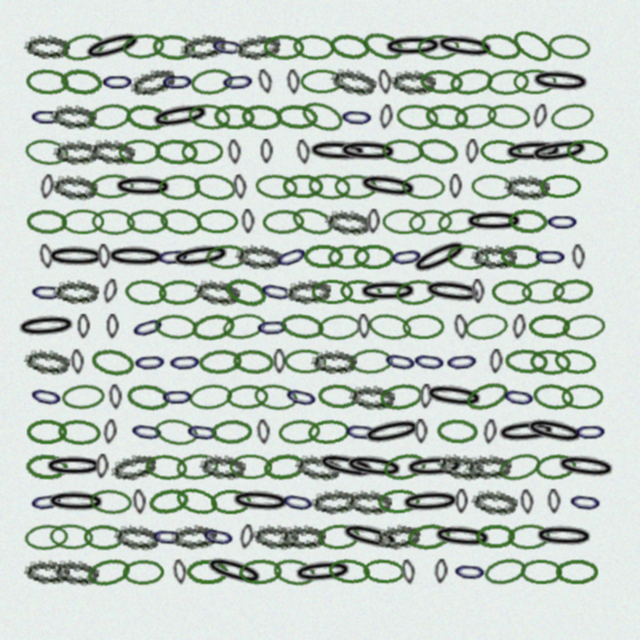chain: (407, 233, 473, 281), (80, 26, 146, 67), (201, 551, 267, 592), (337, 518, 403, 556), (522, 413, 587, 450), (314, 448, 379, 485), (360, 414, 425, 450), (148, 99, 213, 134), (527, 135, 592, 168), (356, 170, 420, 203), (169, 240, 233, 273), (422, 380, 486, 413), (508, 25, 557, 68), (433, 31, 497, 63), (421, 276, 485, 308), (342, 451, 406, 483), (554, 451, 618, 483), (127, 63, 178, 101), (291, 557, 355, 587), (298, 97, 347, 136), (495, 417, 558, 447), (431, 522, 494, 552), (108, 449, 159, 485), (529, 67, 592, 96), (15, 312, 78, 341), (229, 487, 292, 516), (463, 378, 511, 415), (403, 453, 466, 481), (399, 488, 462, 516), (360, 28, 407, 65), (496, 449, 544, 485), (306, 138, 369, 165), (502, 138, 565, 165), (222, 274, 269, 310), (173, 484, 221, 519), (382, 33, 444, 60), (337, 138, 399, 165), (533, 523, 595, 550), (178, 30, 228, 63), (289, 204, 336, 239), (329, 65, 378, 98), (112, 174, 174, 200), (45, 244, 107, 270), (105, 244, 167, 270), (45, 489, 107, 515), (60, 30, 107, 64), (85, 555, 132, 589), (233, 31, 282, 63), (478, 30, 524, 64), (381, 450, 428, 483), (482, 555, 529, 588), (463, 209, 525, 234), (357, 279, 419, 304), (43, 454, 105, 479), (436, 451, 485, 482), (373, 521, 422, 552), (415, 135, 461, 168), (366, 311, 413, 343), (89, 346, 136, 378), (153, 416, 200, 448), (192, 171, 238, 203), (190, 311, 236, 343), (271, 556, 317, 588), (549, 101, 596, 132), (463, 311, 510, 342), (193, 277, 241, 307), (294, 452, 342, 482), (52, 557, 100, 587), (271, 239, 312, 274), (448, 66, 494, 97), (87, 101, 133, 132), (453, 101, 499, 132), (436, 206, 482, 237), (221, 311, 267, 342), (279, 311, 325, 342), (378, 381, 424, 412), (328, 31, 372, 63), (189, 66, 234, 97), (158, 206, 203, 237), (531, 381, 576, 412), (88, 137, 136, 166), (284, 277, 332, 306), (23, 347, 71, 376), (310, 487, 358, 516), (170, 522, 218, 551), (24, 137, 70, 167), (125, 382, 171, 412), (253, 382, 299, 412), (147, 486, 191, 517), (128, 310, 168, 344), (547, 32, 592, 62), (124, 102, 169, 132), (395, 102, 440, 132), (394, 277, 439, 307), (561, 312, 606, 342), (553, 347, 598, 377), (188, 382, 233, 412), (324, 208, 372, 236), (113, 523, 161, 551), (51, 173, 98, 201), (471, 488, 518, 516), (121, 32, 166, 61), (424, 102, 469, 131), (486, 102, 531, 131), (307, 172, 352, 201), (175, 452, 220, 481), (406, 522, 451, 551), (327, 557, 372, 586), (470, 173, 516, 201), (59, 67, 103, 96), (187, 102, 231, 131), (551, 277, 595, 306), (262, 452, 306, 481), (534, 452, 578, 481), (50, 103, 97, 130), (235, 243, 282, 270), (199, 453, 246, 480), (465, 453, 512, 480), (252, 523, 299, 550), (151, 33, 196, 61), (565, 138, 610, 166), (254, 173, 299, 201), (91, 208, 136, 236), (408, 208, 453, 236), (24, 523, 69, 551), (282, 381, 321, 413), (419, 68, 463, 96), (486, 68, 530, 96), (240, 103, 284, 131), (479, 138, 523, 166), (446, 243, 490, 271), (339, 278, 383, 306), (154, 313, 198, 341), (317, 313, 361, 341), (198, 348, 242, 376), (61, 383, 105, 411), (57, 418, 101, 446), (277, 418, 321, 446), (307, 418, 351, 446), (144, 453, 188, 481), (89, 488, 133, 516), (401, 173, 446, 200), (49, 523, 94, 550), (257, 276, 296, 307), (381, 346, 420, 377), (27, 381, 66, 412), (199, 521, 238, 552), (292, 33, 335, 61), (275, 103, 318, 131), (124, 278, 167, 306), (232, 348, 275, 376), (529, 348, 572, 376), (390, 69, 436, 95), (53, 139, 99, 165), (504, 174, 550, 200), (349, 384, 395, 410), (346, 489, 392, 515), (25, 68, 69, 95), (154, 138, 198, 165), (90, 173, 134, 200), (521, 278, 565, 305), (349, 348, 393, 375), (504, 348, 548, 375), (377, 488, 421, 515), (317, 523, 361, 550), (507, 523, 551, 550), (238, 558, 282, 585), (362, 558, 406, 585), (213, 103, 256, 130), (381, 138, 424, 165), (317, 383, 360, 410), (436, 418, 479, 445), (25, 453, 68, 480), (24, 34, 70, 59), (471, 244, 517, 269), (53, 279, 99, 304), (311, 349, 357, 374), (280, 524, 326, 549), (24, 559, 70, 584), (205, 244, 249, 270), (500, 382, 538, 412), (279, 487, 317, 517), (507, 208, 549, 235), (158, 174, 201, 200), (334, 174, 377, 200), (262, 209, 305, 235), (327, 244, 370, 270), (158, 279, 201, 305), (226, 384, 269, 410), (128, 417, 166, 446), (513, 69, 557, 94), (382, 209, 426, 234), (263, 34, 305, 60), (417, 34, 459, 60), (26, 209, 68, 235), (126, 209, 168, 235), (500, 244, 542, 270), (491, 279, 533, 305), (211, 419, 253, 445), (83, 524, 125, 550), (122, 559, 164, 585), (300, 69, 343, 94), (118, 139, 161, 164), (539, 174, 582, 199), (61, 209, 104, 234), (196, 209, 239, 234), (311, 279, 354, 304), (402, 314, 445, 339), (284, 349, 327, 374), (561, 384, 604, 409), (229, 454, 272, 479), (520, 559, 563, 584), (555, 559, 598, 584), (209, 32, 246, 61), (388, 242, 425, 271), (411, 347, 448, 376), (28, 487, 65, 516), (181, 139, 223, 164), (282, 174, 324, 199), (353, 244, 395, 269), (528, 314, 570, 339), (26, 419, 68, 444), (210, 489, 252, 514), (186, 559, 228, 584), (184, 418, 221, 446), (567, 488, 604, 516), (303, 244, 344, 269), (475, 524, 516, 549), (220, 68, 256, 95), (155, 243, 191, 270), (444, 348, 480, 375), (343, 418, 379, 445), (150, 523, 186, 550), (452, 558, 488, 585), (339, 104, 375, 130), (29, 279, 65, 305), (132, 349, 168, 375), (167, 349, 203, 375), (255, 314, 290, 340), (100, 69, 135, 94), (160, 69, 195, 94), (29, 104, 64, 129), (545, 209, 580, 234), (533, 244, 568, 269), (160, 384, 195, 409), (573, 419, 608, 444), (256, 68, 275, 95), (531, 103, 549, 130), (101, 278, 119, 305), (38, 243, 55, 270), (295, 139, 312, 165), (238, 524, 255, 550), (400, 559, 417, 585), (377, 69, 393, 95), (378, 104, 394, 130), (39, 174, 55, 200), (232, 174, 248, 200), (453, 314, 469, 340), (511, 314, 527, 340), (102, 419, 118, 445), (482, 419, 498, 445), (519, 489, 535, 515), (172, 559, 188, 585), (286, 69, 301, 95), (227, 139, 242, 165), (571, 244, 586, 270), (70, 349, 85, 375), (108, 384, 123, 410), (256, 419, 271, 445), (132, 489, 147, 515), (465, 139, 479, 164), (241, 209, 255, 234), (97, 244, 111, 269), (471, 279, 485, 304), (357, 314, 371, 339), (489, 349, 503, 374), (419, 384, 433, 409), (414, 419, 428, 444), (95, 454, 109, 479), (547, 489, 561, 514), (434, 559, 448, 584), (260, 139, 273, 164), (449, 174, 462, 199), (367, 209, 380, 234), (77, 314, 90, 339), (106, 314, 119, 339), (273, 349, 286, 374), (455, 489, 468, 514)
